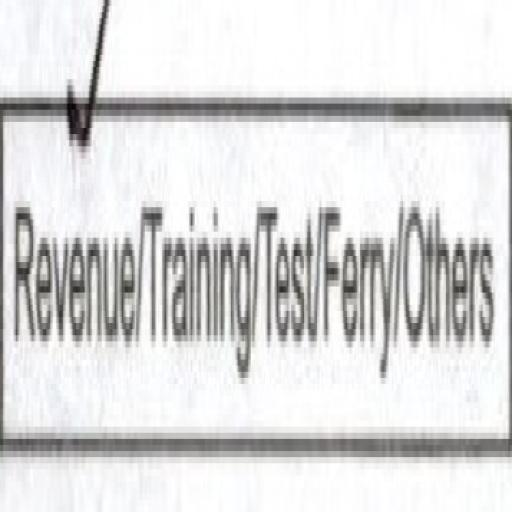check: (0, 0, 138, 440)
